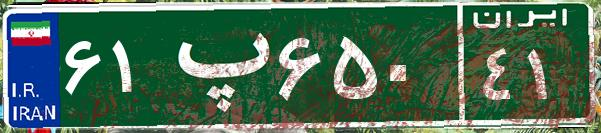0: (385, 28, 445, 110)
1: (110, 28, 158, 105), (525, 38, 570, 115)
4: (475, 38, 525, 113)
5: (330, 28, 385, 110)
6: (273, 28, 330, 110), (57, 26, 110, 107)
پ: (158, 15, 273, 115)
